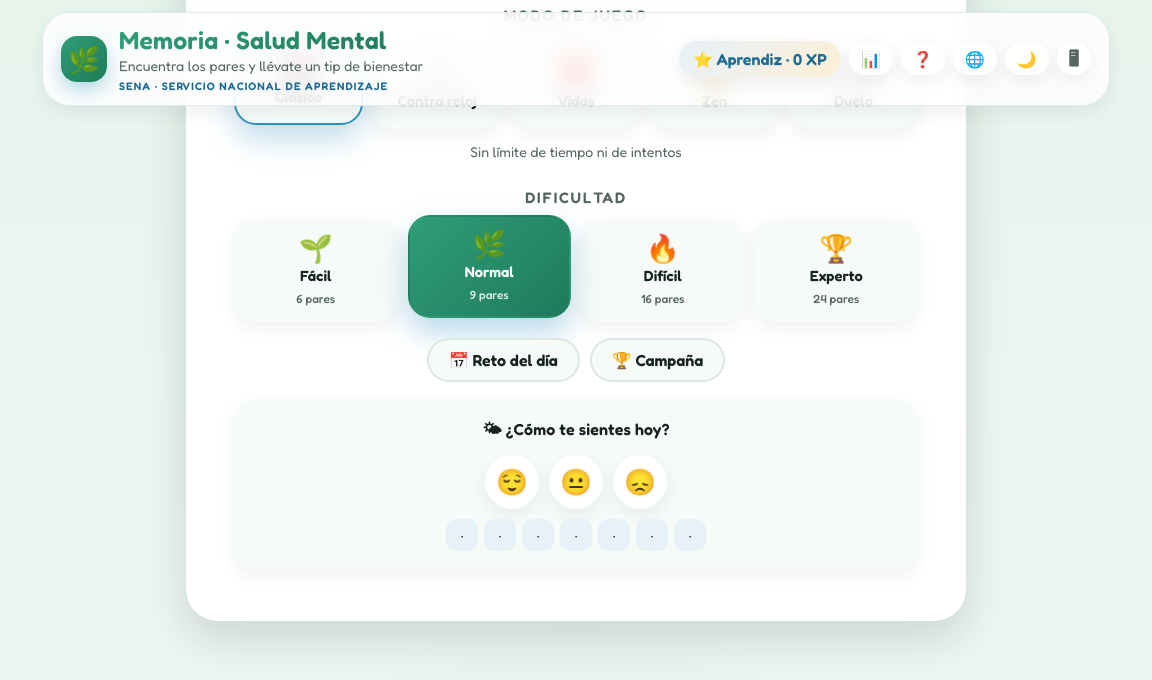
Scenario: campaña › juega la etapa 1 con sus cartas fijas
This screenshot has width=1152, height=680.
(page scrolled)
Click the button "🏆 Campaña". click: (657, 360)
box: [590,338,725,382]
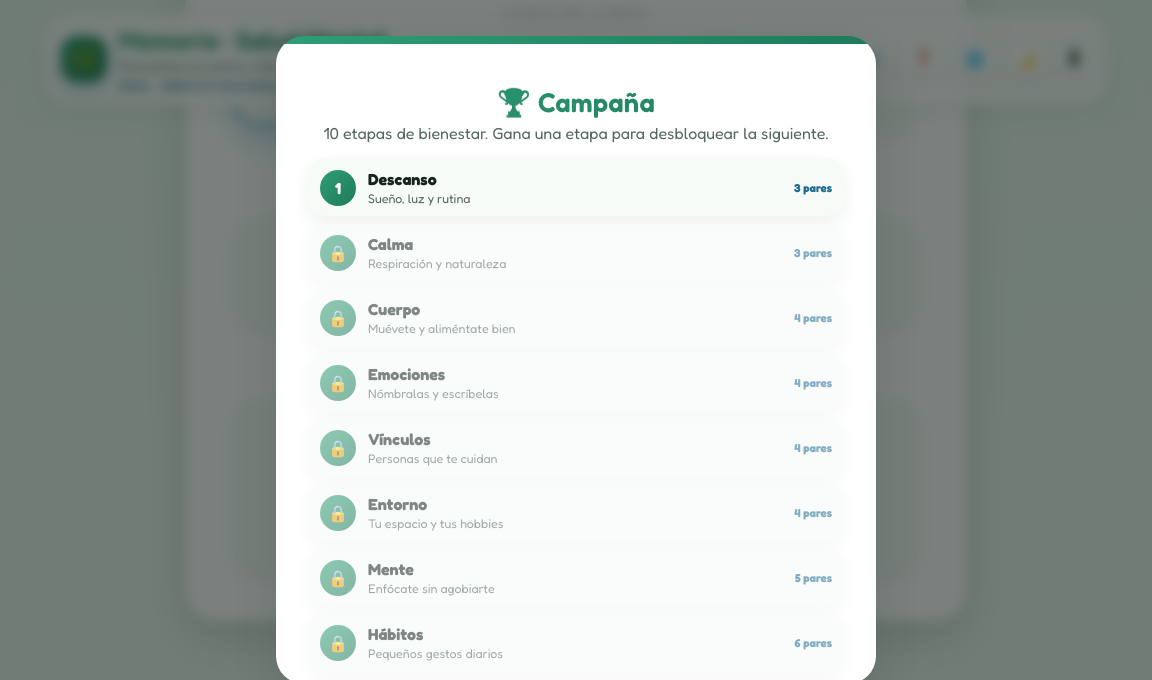
Click the button "1 Descanso Sueño, luz y rutina 3 pares". click: (338, 188)
box: [308,159,844,216]
(page scrolled)
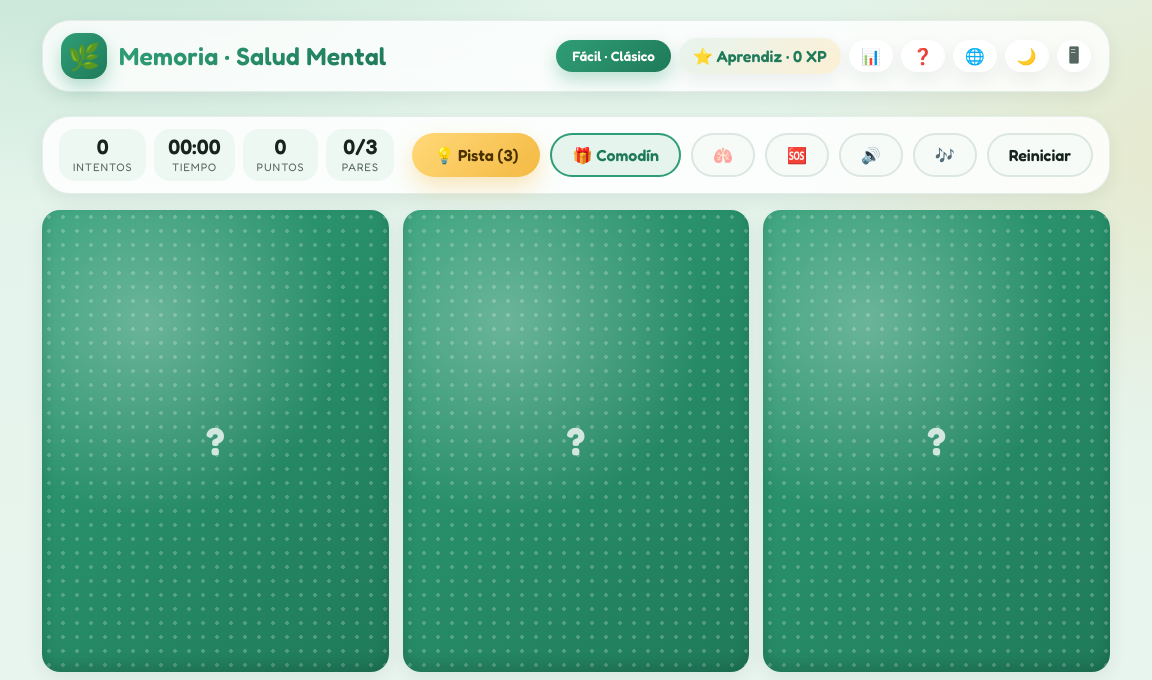
Check: the text "0/3" is shown, box [340,136,380,159]
